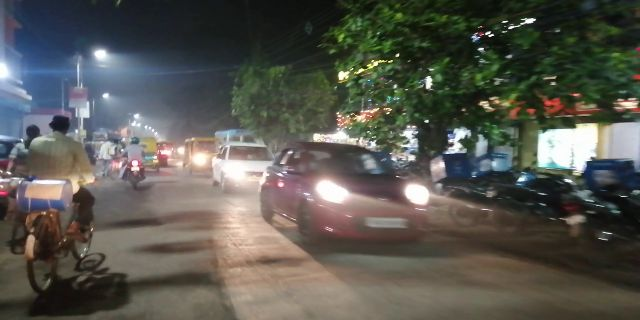Car: (262, 140, 428, 251), (218, 141, 273, 194)
Cycle: (15, 113, 100, 290)
Motorbike: (122, 139, 149, 192)
